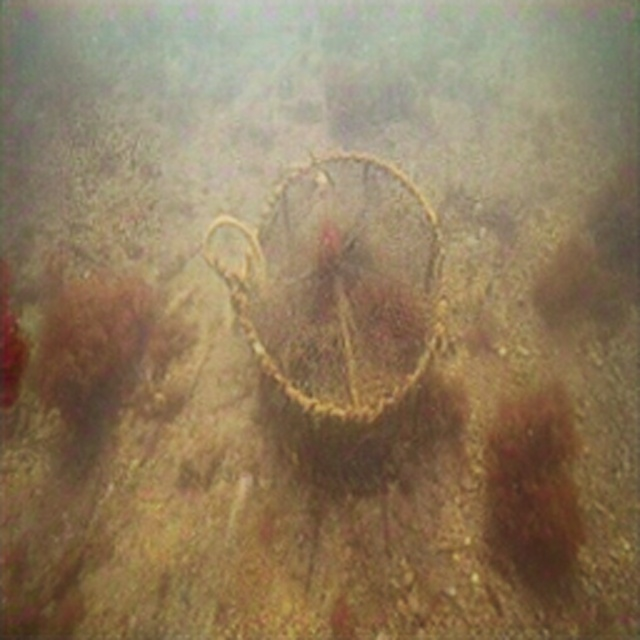mine: (238, 149, 449, 493)
